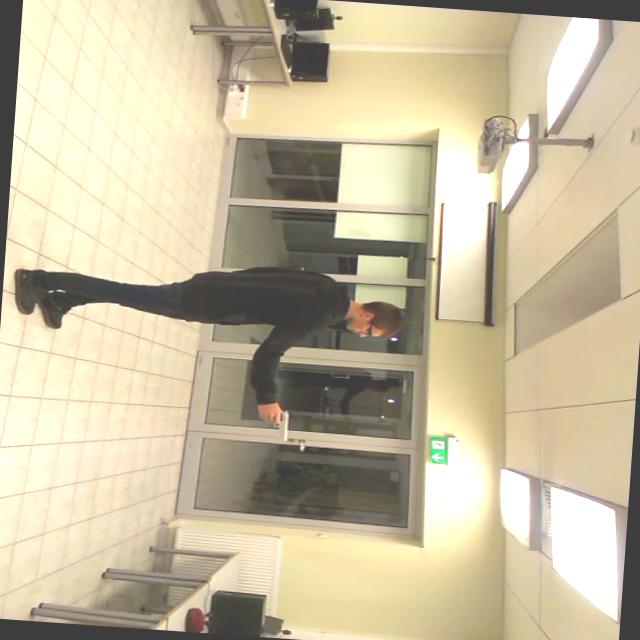handgun: (248, 402, 304, 447)
